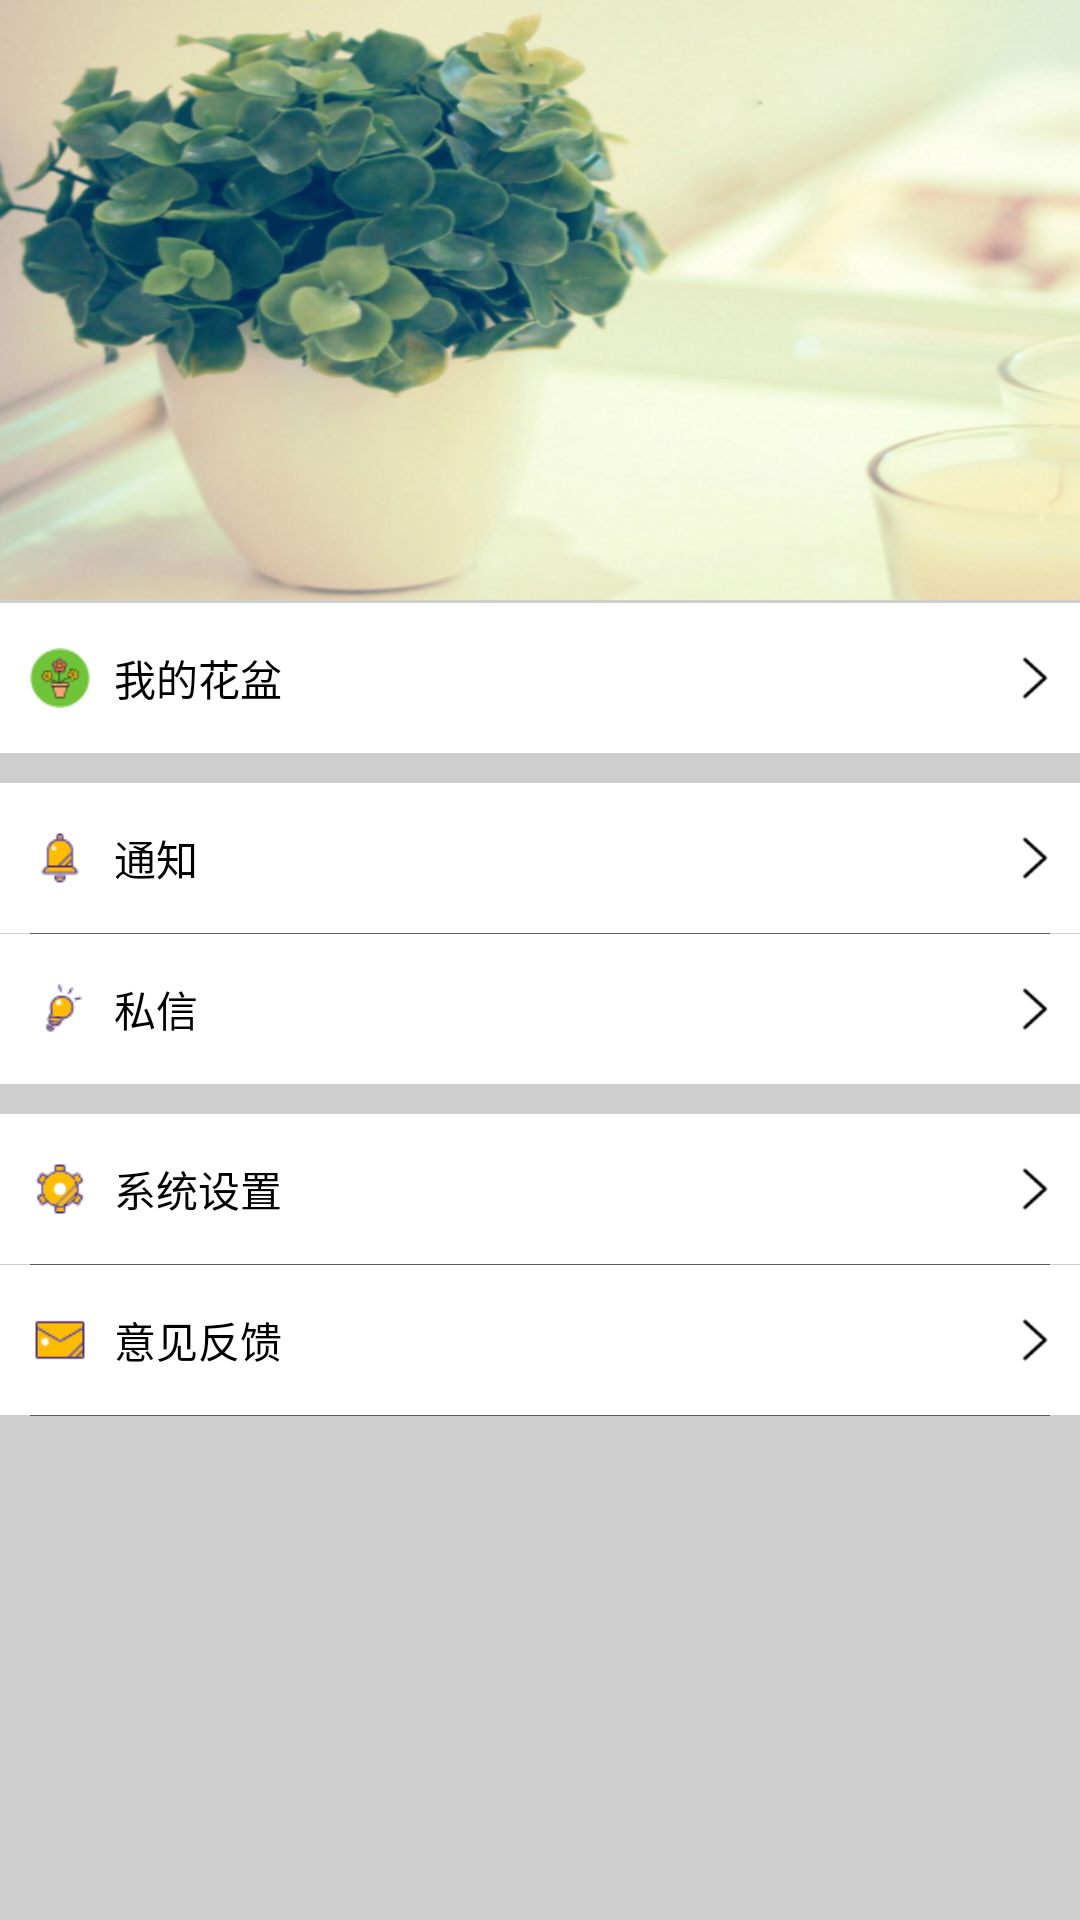

Screen size 1080px×1920px. Icon name, then its center in pixels as [x,y]:
flower: [60,678]
home right arrow: [1035,678], [1035,858], [1035,1009], [1035,1189], [1035,1340]
information: [60,858]
setting: [60,1189]
